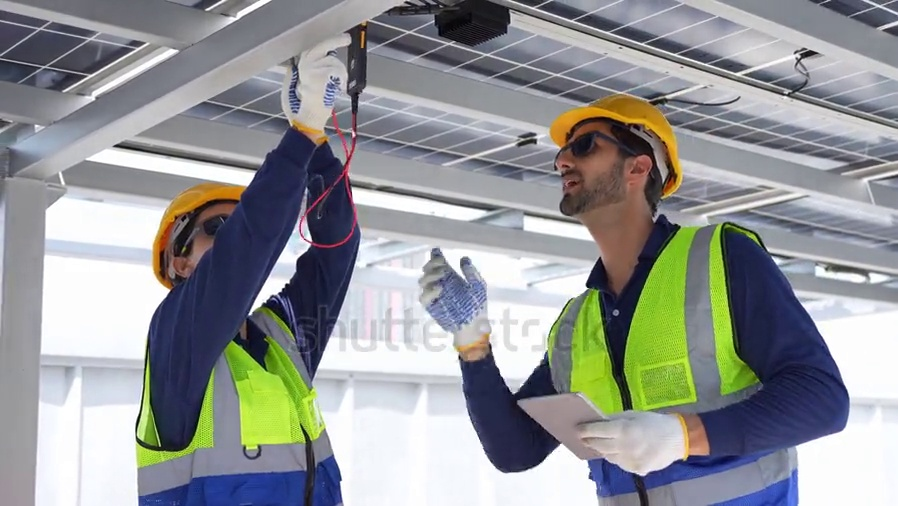helmet: (547, 95, 685, 200), (154, 184, 245, 287)
person: (418, 94, 851, 506), (135, 29, 364, 506)
